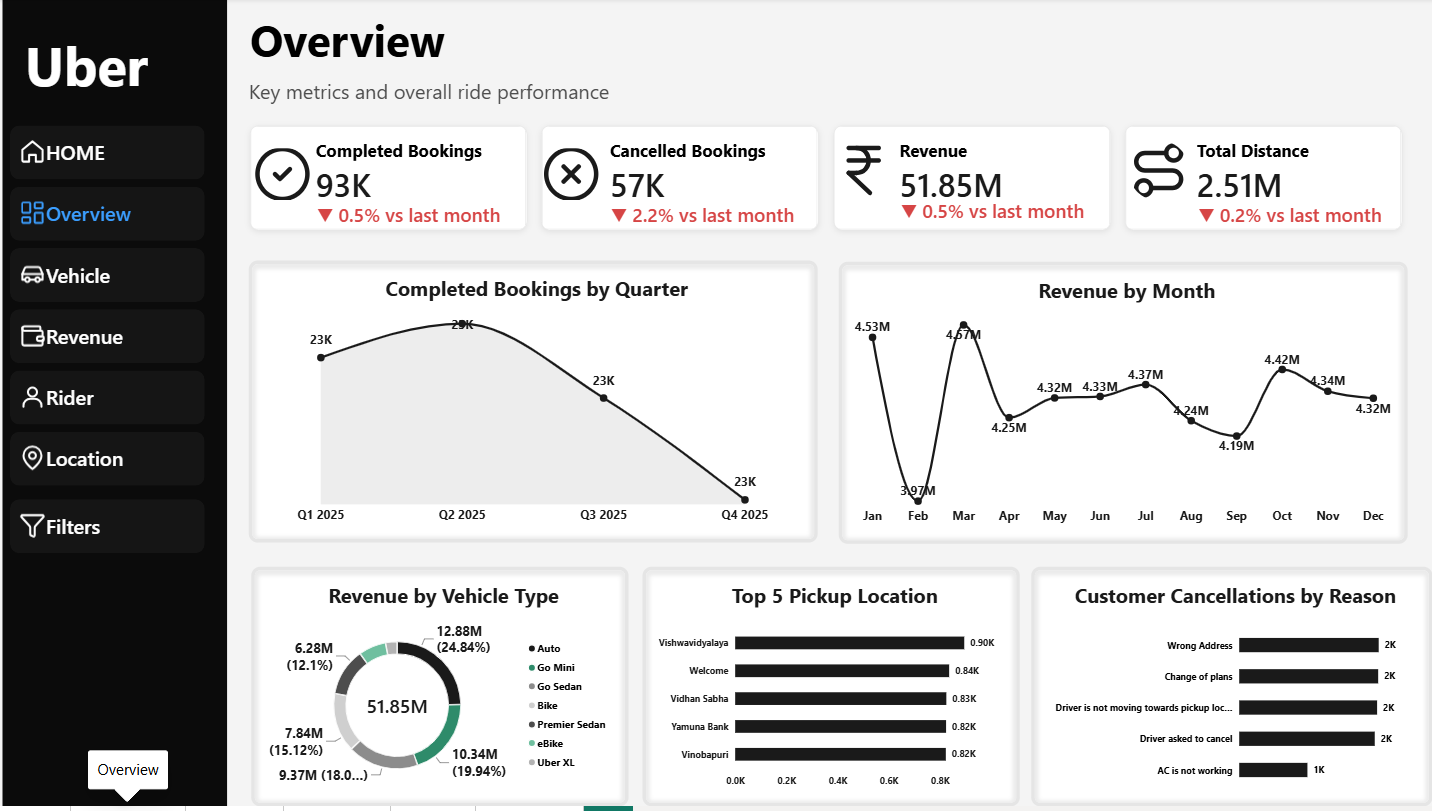

The page's visual inventory and layout, read from the dashboard file:
{"tool":"powerbi","page":{"name":"Overview","canvas":[1920,1080],"ordinal":1},"visuals":[{"type":"shape","box":[10,0,300,1080],"z":0},{"type":"textbox","box":[40,40,305.1,162.3],"z":1000},{"type":"actionButton","box":[20,170,260,72],"z":2000},{"type":"actionButton","box":[20,252,260,72],"z":3000},{"type":"actionButton","box":[20,334,260,72],"z":5000},{"type":"actionButton","box":[20,416,260,72],"z":6000},{"type":"actionButton","box":[20,498,260,72],"z":7000},{"type":"actionButton","box":[20,580,260,72],"z":8000},{"type":"textbox","box":[340,15,298.7,132],"z":9000},{"type":"textbox","box":[339.8,82.2,560.5,99.6],"z":10000},{"type":"cardVisual","fields":{"Data":["ALL_Measures.Completed Bookings"]},"box":[340,170,370,140],"z":11000},{"type":"cardVisual","fields":{"Data":["ALL_Measures.Completed MoM %"]},"box":[413.4,233.7,279.2,108.2],"z":12000},{"type":"image","box":[344.1,190,80,80],"z":13000},{"type":"cardVisual","fields":{"Data":["ALL_Measures.Cancelled Bookings"]},"box":[730,170,370,140],"z":14000},{"type":"cardVisual","fields":{"Data":["ALL_Measures.Lost MoM %"]},"box":[807.2,233.7,279.2,108.2],"z":15000},{"type":"image","box":[730,190,80,80],"z":16000},{"type":"cardVisual","fields":{"Data":["ALL_Measures.Revenue"]},"box":[1120,170,370,140],"z":17000},{"type":"cardVisual","fields":{"Data":["ALL_Measures.Revenue MoM %"]},"box":[1194.6,229.4,279.2,108.2],"z":18000},{"type":"image","box":[1120,190.4,80,80],"z":19000},{"type":"cardVisual","fields":{"Data":["ALL_Measures.Total Distance"]},"box":[1510,170,370,140],"z":20000},{"type":"cardVisual","fields":{"Data":["ALL_Measures.Distance MoM %"]},"box":[1590.6,233.7,279.2,108.2],"z":21000},{"type":"image","box":[1514.1,190,80,80],"z":22000},{"type":"areaChart","fields":{"Category":["Calendar.Quarter"],"Y":["ALL_Measures.Completed Bookings"]},"box":[339.8,350.6,759.6,376.6],"z":23000},{"type":"lineChart","fields":{"Category":["Calendar.Month"],"Y":["ALL_Measures.Revenue"]},"box":[1127.5,352.8,759.6,376.6],"z":24000},{"type":"barChart","title":"Top 5 Pickup Location","fields":{"Category":["Bookings.Pickup Location"],"Y":["ALL_Measures.Total Rides"]},"box":[865.7,760,504,320.3],"z":25000},{"type":"donutChart","fields":{"Category":["Bookings.Vehicle Type"],"Y":["ALL_Measures.Revenue"]},"box":[343,760,504.2,320.3],"z":26000},{"type":"actionButton","title":"Btn_filter","box":[19.9,669.6,260,72],"z":27000},{"type":"clusteredBarChart","title":"Customer Cancellations by Reason","fields":{"Category":["Bookings.Reason for cancelling by Customer"],"Y":["ALL_Measures.Customer Cancellations"]},"box":[1384.4,760.1,535.7,320.3],"z":29000}]}

Visuals, with their boxes on the page's 1920x1080 design canvas (x1, y1, x2, y2). These are canvas units, not pixel positions in the 1432x811 screenshot, which may show the page scaled, cropped or inside an application window:
shape: locate(10, 0, 310, 1080)
textbox: locate(40, 40, 345, 202)
actionButton: locate(20, 170, 280, 242)
actionButton: locate(20, 252, 280, 324)
actionButton: locate(20, 334, 280, 406)
actionButton: locate(20, 416, 280, 488)
actionButton: locate(20, 498, 280, 570)
actionButton: locate(20, 580, 280, 652)
textbox: locate(340, 15, 639, 147)
textbox: locate(340, 82, 900, 182)
cardVisual - ALL_Measures.Completed Bookings: locate(340, 170, 710, 310)
cardVisual - ALL_Measures.Completed MoM %: locate(413, 234, 693, 342)
image: locate(344, 190, 424, 270)
cardVisual - ALL_Measures.Cancelled Bookings: locate(730, 170, 1100, 310)
cardVisual - ALL_Measures.Lost MoM %: locate(807, 234, 1086, 342)
image: locate(730, 190, 810, 270)
cardVisual - ALL_Measures.Revenue: locate(1120, 170, 1490, 310)
cardVisual - ALL_Measures.Revenue MoM %: locate(1195, 229, 1474, 338)
image: locate(1120, 190, 1200, 270)
cardVisual - ALL_Measures.Total Distance: locate(1510, 170, 1880, 310)
cardVisual - ALL_Measures.Distance MoM %: locate(1591, 234, 1870, 342)
image: locate(1514, 190, 1594, 270)
areaChart - Calendar.Quarter x ALL_Measures.Completed Bookings: locate(340, 351, 1099, 727)
lineChart - Calendar.Month x ALL_Measures.Revenue: locate(1128, 353, 1887, 729)
"Top 5 Pickup Location" barChart: locate(866, 760, 1370, 1080)
donutChart - Bookings.Vehicle Type x ALL_Measures.Revenue: locate(343, 760, 847, 1080)
"Btn_filter" actionButton: locate(20, 670, 280, 742)
"Customer Cancellations by Reason" clusteredBarChart: locate(1384, 760, 1920, 1080)
